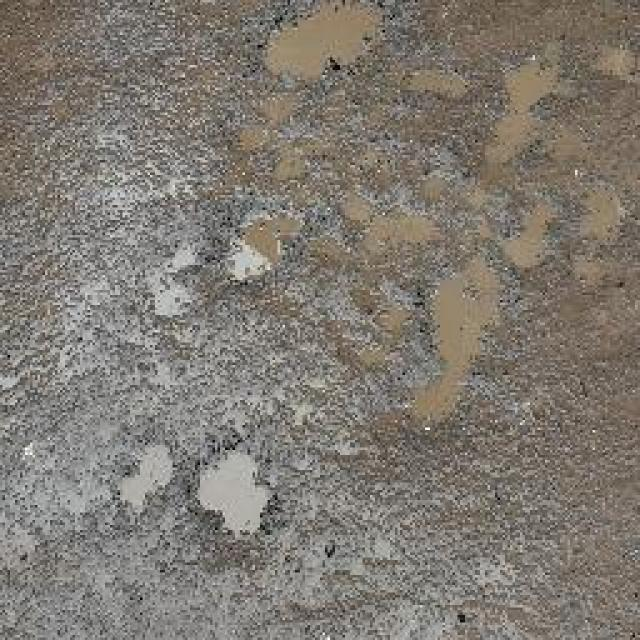stagnation: (414, 240, 508, 406), (200, 440, 295, 548), (257, 6, 404, 74)
